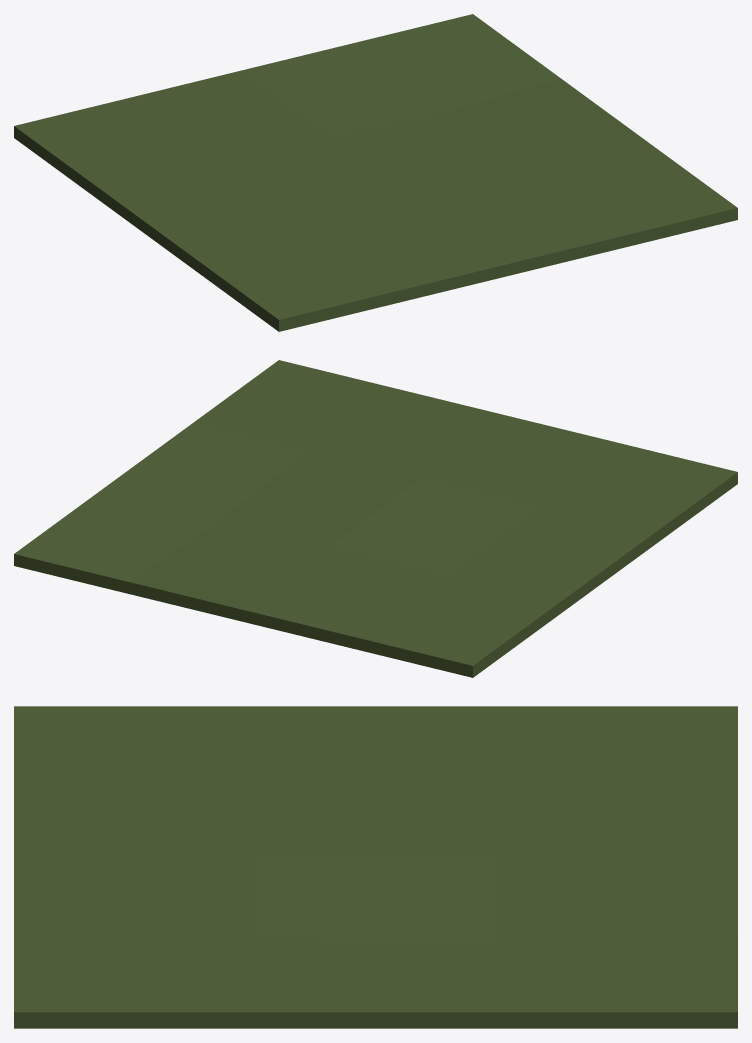
The model's file is Road_003-col.glb.
The picture shows the model from 3 angles, top to bottom: view 1: azimuth 30°, elevation 25°; view 2: azimuth 150°, elevation 25°; view 3: azimuth 270°, elevation 25°; orthographic projection. The views are drawn at different scales.
Parts seen in each view (by area): view 1: GrassFloor_01_C-col; view 2: GrassFloor_01_C-col; view 3: GrassFloor_01_C-col.
Part boxes in pixels (bbox=[...]): GrassFloor_01_C-col: bbox=[14, 14, 737, 331]; GrassFloor_01_C-col: bbox=[14, 360, 737, 677]; GrassFloor_01_C-col: bbox=[14, 706, 737, 1028].
Size of the model in its own units: 2 by 0.0569 by 2.
Materials: 1 (1 with a texture image).
